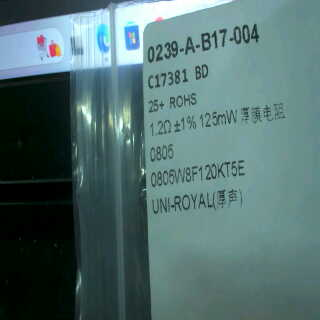1.2R: (148, 117, 174, 163)
